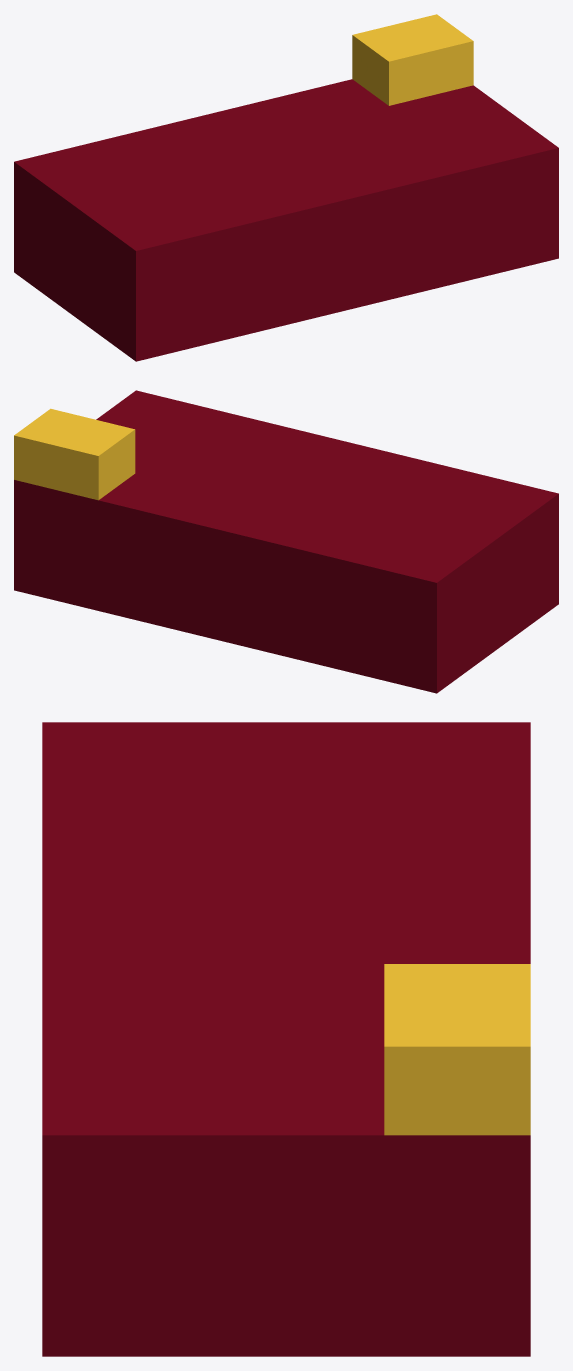
The model's file is hello.glb.
3 views of the same model, one above another, from view 1: azimuth 30°, elevation 25°; view 2: azimuth 150°, elevation 25°; view 3: azimuth 270°, elevation 25° (orthographic). The views are drawn at different scales.
Visible parts, largest first — view 1: block, north-east marker; view 2: block, north-east marker; view 3: block, north-east marker.
Part boxes in pixels (bbox=[...]): block: bbox=[14, 79, 558, 361]; north-east marker: bbox=[352, 14, 473, 105]; block: bbox=[14, 390, 558, 693]; north-east marker: bbox=[14, 408, 135, 500]; block: bbox=[42, 722, 530, 1356]; north-east marker: bbox=[384, 964, 530, 1135].
Size of the model in its own units: 0.2 by 0.07 by 0.1.
